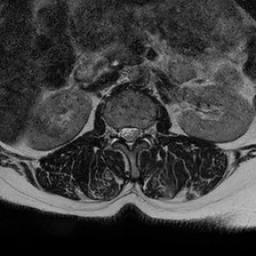CCS_normal: (126, 120, 133, 154)
LFS_normal: (140, 121, 148, 141)
LLS_normal: (133, 123, 140, 144)
RFS_normal: (112, 121, 120, 144)
RLS_normal: (120, 121, 126, 142)
